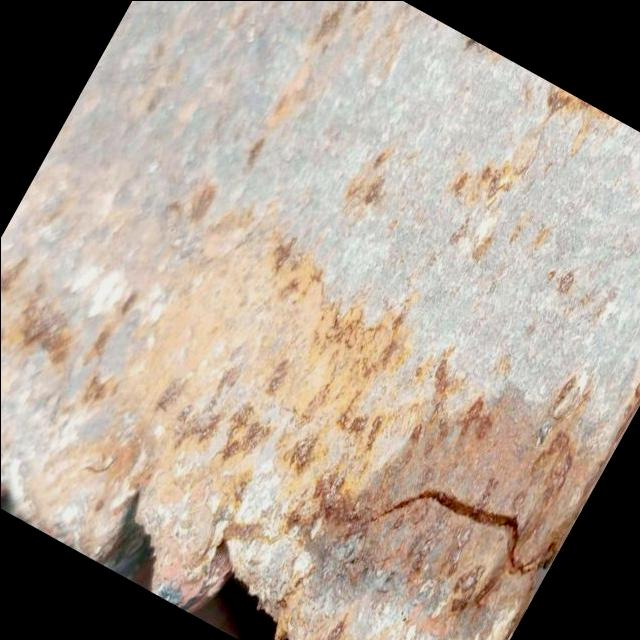defect: (315, 476, 533, 585)
